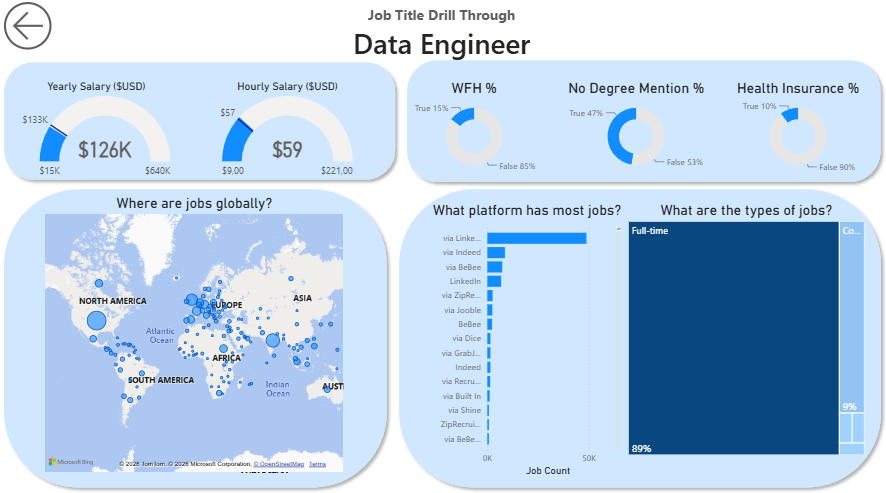

The dashboard page shown, as its layout file describes it:
{"tool":"powerbi","page":{"name":"Job Title Drill Through","canvas":[1280,720],"ordinal":1},"visuals":[{"type":"group","id":"g1","title":"Background","box":[0,86.8,1280.3,633.4],"z":0},{"type":"shape","box":[0,89.2,580.8,187.1],"z":0,"group":"g1"},{"type":"cardVisual","fields":{"Data":["Min(job_postings_flat.job_title_short)1"]},"box":[220.1,0,837.6,112.5],"z":1000},{"type":"shape","box":[580.8,86.8,699.5,193.2],"z":1000,"group":"g1"},{"type":"actionButton","box":[0,0,85.6,91.7],"z":2000},{"type":"shape","box":[0,272.7,568.6,447.6],"z":2000,"group":"g1"},{"type":"gauge","title":"Yearly Salary ($USD)","fields":{"Y":["Median(job_postings_flat.salary_year_avg)"],"MinValue":["Min(job_postings_flat.salary_year_avg)1"],"MaxValue":["Max(job_postings_flat.salary_year_avg)2"],"TargetValue":["Avg(job_postings_flat.salary_year_avg)3"]},"box":[0,123.5,282.5,149.2],"z":3000},{"type":"shape","box":[568.6,272.7,711.7,447.6],"z":3000,"group":"g1"},{"type":"gauge","title":"Hourly Salary ($USD)","fields":{"Y":["Median(job_postings_flat.salary_hour_avg)"],"MinValue":["Min(job_postings_flat.salary_hour_avg)"],"MaxValue":["Max(job_postings_flat.salary_hour_avg)"],"TargetValue":["Avg(job_postings_flat.salary_hour_avg)"]},"box":[282.5,123.5,269,149.2],"z":4000},{"type":"donutChart","title":"WFH %","fields":{"Category":["job_postings_flat.job_work_from_home"],"Y":["CountNonNull(job_postings_flat.job_work_from_home)"]},"box":[568.6,123.5,233.6,139.4],"z":5000},{"type":"donutChart","title":"No Degree Mention %","fields":{"Category":["job_postings_flat.job_no_degree_mention"],"Y":["CountNonNull(job_postings_flat.job_work_from_home)"]},"box":[802.2,123.5,233.6,139.4],"z":6000},{"type":"donutChart","title":"Health Insurance %","fields":{"Category":["job_postings_flat.job_health_insurance"],"Y":["CountNonNull(job_postings_flat.job_work_from_home)"]},"box":[1035.7,123.5,233.6,139.4],"z":7000},{"type":"map","title":"Where are jobs globally?","fields":{"Category":["job_postings_flat.job_country"],"Size":["CountNonNull(job_postings_flat.job_title_short)"]},"box":[63.6,289.8,439,403.5],"z":8000},{"type":"treemap","title":"What are the types of jobs?","fields":{"Group":["job_postings_flat.job_schedule_type"],"Values":["Divide(CountNonNull(job_postings_flat.job_schedule_type), ScopedEval(CountNonNull(job_postings_flat.job_schedule_type), "]},"box":[902.5,299.6,349.7,369.3],"z":9000},{"type":"barChart","title":"What platform has most jobs?","fields":{"Category":["job_postings_flat.job_via"],"Y":["CountNonNull(job_postings_flat.job_via)"]},"box":[620,299.6,282.5,399.9],"z":10000}]}

Visuals, with their boxes in screenshot pixels (x1, y1, x2, y2), scaled from the page's 1280x720 canvas onto the 886x493 screenshot:
"Background" group: bbox(0, 59, 885, 492)
shape: bbox(0, 61, 402, 189)
cardVisual - Min(job_postings_flat.job_title_short)1: bbox(152, 0, 732, 77)
shape: bbox(402, 59, 885, 192)
actionButton: bbox(0, 0, 59, 63)
shape: bbox(0, 187, 394, 492)
"Yearly Salary ($USD)" gauge: bbox(0, 85, 196, 187)
shape: bbox(394, 187, 885, 492)
"Hourly Salary ($USD)" gauge: bbox(196, 85, 382, 187)
"WFH %" donutChart: bbox(394, 85, 555, 180)
"No Degree Mention %" donutChart: bbox(555, 85, 717, 180)
"Health Insurance %" donutChart: bbox(717, 85, 879, 180)
"Where are jobs globally?" map: bbox(44, 198, 348, 475)
"What are the types of jobs?" treemap: bbox(625, 205, 867, 458)
"What platform has most jobs?" barChart: bbox(429, 205, 625, 479)
